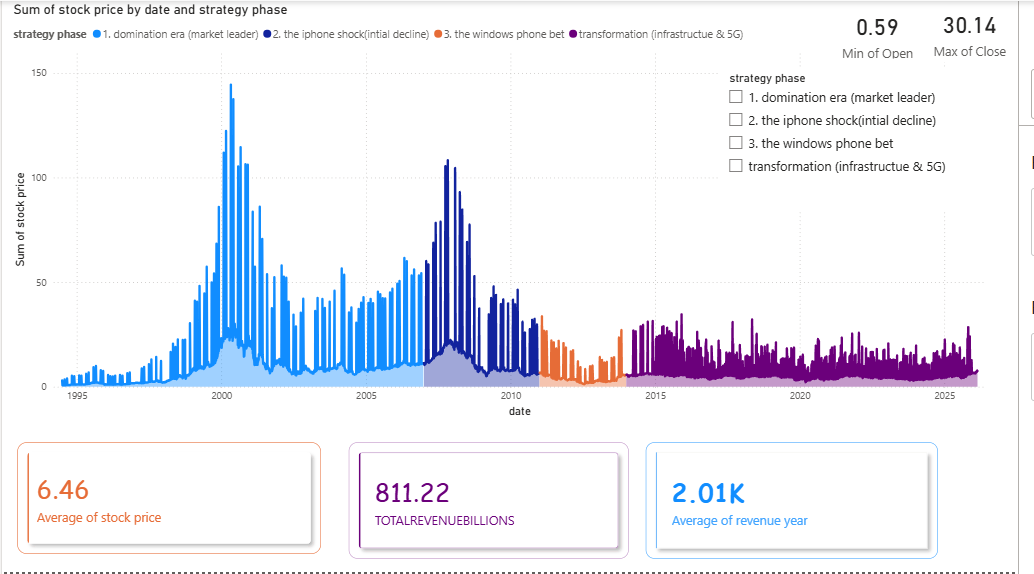

The dashboard page shown, as its layout file describes it:
{"tool":"powerbi","page":{"name":"Page 1","canvas":[1280,720],"ordinal":0},"visuals":[{"type":"areaChart","fields":{"Y":["Sum(gold vm_dashboard_strategic_insights.stock price)"],"Series":["gold vm_dashboard_strategic_insights.strategy phase"],"Category":["gold vm_dashboard_strategic_insights.date.Variation.Date Hierarchy.Year"]},"box":[9.6,0,1237.2,528.6],"z":0},{"type":"cardVisual","fields":{"Data":["Avg(gold vm_dashboard_strategic_insights.stock price)"]},"box":[1.9,538.6,417.6,175.7],"z":1000},{"type":"cardVisual","fields":{"Data":["gold vm_dashboard_financial_summary.TOTALREVENUEBILLIONS"]},"box":[419.5,538.6,387.4,181.4],"z":2000},{"type":"cardVisual","fields":{"Data":["Avg(gold vm_dashboard_financial_summary.revenue year)"]},"box":[792.9,538.2,402.2,181.9],"z":3000},{"type":"slicer","fields":{"Values":["gold vm_dashboard_strategic_insights.strategy phase"]},"box":[904,82.4,375.4,181.9],"z":4000},{"type":"card","fields":{"Values":["Min(gold vm_dashboard_stock_performanc.Open)"]},"box":[1046.9,3.8,111.5,73.7],"z":5000},{"type":"card","fields":{"Values":["Max(gold vm_dashboard_stock_performanc.Close)"]},"box":[1158.4,0,120.9,77.5],"z":6000}]}

Visuals, with their boxes in screenshot pixels (x1, y1, x2, y2), scaled from the page's 1280x720 canvas onto the 1034x574 screenshot:
areaChart - Sum(gold vm_dashboard_strategic_insights.stock price) x gold vm_dashboard_strategic_insights.strategy phase: detection(8, 0, 1007, 421)
cardVisual - Avg(gold vm_dashboard_strategic_insights.stock price): detection(2, 429, 339, 569)
cardVisual - gold vm_dashboard_financial_summary.TOTALREVENUEBILLIONS: detection(339, 429, 652, 573)
cardVisual - Avg(gold vm_dashboard_financial_summary.revenue year): detection(641, 429, 965, 573)
slicer - gold vm_dashboard_strategic_insights.strategy phase: detection(730, 66, 1033, 211)
card - Min(gold vm_dashboard_stock_performanc.Open): detection(846, 3, 936, 62)
card - Max(gold vm_dashboard_stock_performanc.Close): detection(936, 0, 1033, 62)
